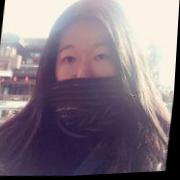WRONG: (50, 40, 121, 110)
